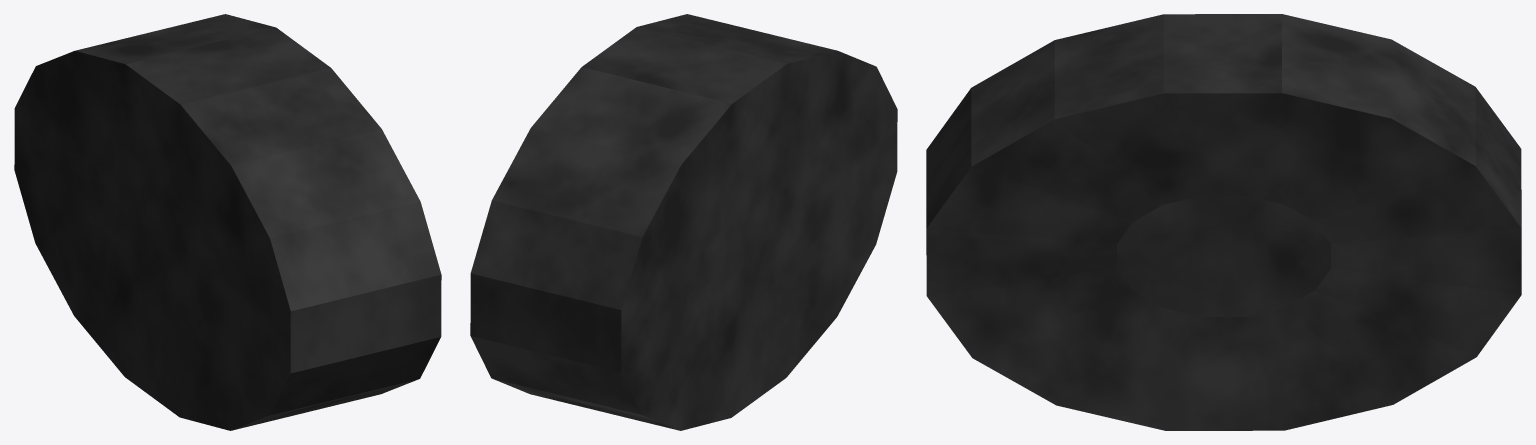
The model's file is llanta_TD.obj.
The picture shows the model from 3 angles, left to right: view 1: azimuth 30°, elevation 25°; view 2: azimuth 150°, elevation 25°; view 3: azimuth 270°, elevation 25°; orthographic projection. The views are drawn at different scales.
Parts seen in each view (by area): view 1: rueda_TD; view 2: rueda_TD; view 3: rueda_TD.
Part boxes in pixels (x1=…): rueda_TD: x1=14, y1=14, x2=441, y2=430; rueda_TD: x1=470, y1=14, x2=897, y2=430; rueda_TD: x1=926, y1=14, x2=1521, y2=430.
Size of the model in its own units: 0.3463 by 0.6887 by 1.1.
Materials: 1 (1 with a texture image).
